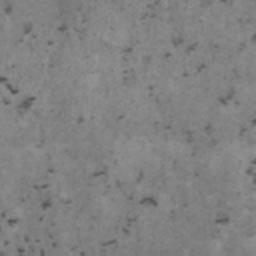Oxide scale of temperature system: (164, 38, 256, 227), (1, 166, 160, 256), (4, 0, 69, 47), (0, 76, 37, 118), (122, 46, 134, 55), (76, 114, 84, 124), (251, 33, 256, 45), (219, 0, 229, 5)
